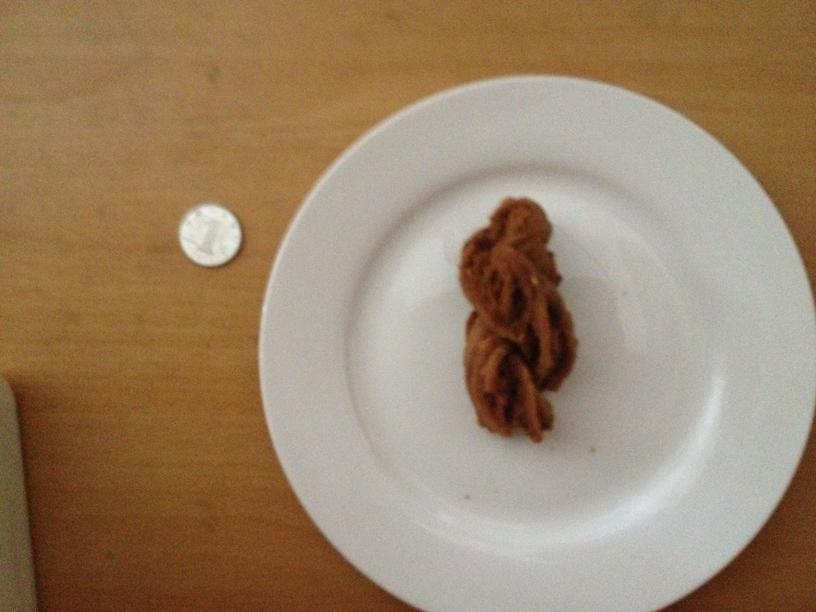coin: (178, 203, 241, 268)
fired_dough_twist: (452, 195, 577, 441)
